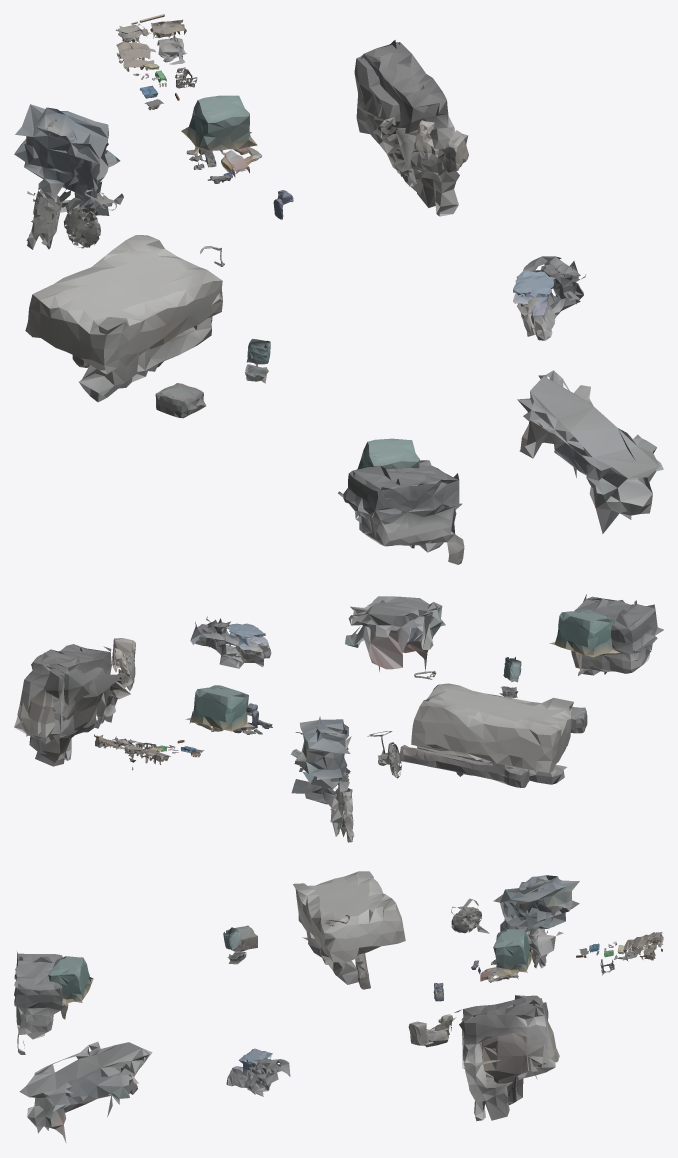
Rendered from models-1-0.glb.
3 views of the same model, one above another, from view 1: azimuth 30°, elevation 25°; view 2: azimuth 150°, elevation 25°; view 3: azimuth 270°, elevation 25° (orthographic). The views are drawn at different scales.
Parts seen in each view (by area): view 1: obj-1-150, obj-1-461, obj-1-369, obj-1-137, obj-1-220, obj-1-168, obj-1-132, obj-1-436, obj-1-516, obj-1-673, obj-1-136, obj-1-213 (+5 smaller); view 2: obj-1-150, obj-1-461, obj-1-369, obj-1-220, obj-1-137, obj-1-136, obj-1-362, obj-1-213, obj-1-238, obj-1-168, obj-1-436, obj-1-509 (+8 smaller); view 3: obj-1-150, obj-1-461, obj-1-220, obj-1-137, obj-1-369, obj-1-136, obj-1-168, obj-1-213, obj-1-436, obj-1-516, obj-1-362, obj-1-132 (+5 smaller).
Part boxes in pixels (x1,y1,x2,y2): obj-1-150: (25,235,222,402); obj-1-461: (517,370,663,533); obj-1-369: (338,460,464,564); obj-1-137: (14,104,123,219); obj-1-220: (356,42,459,216); obj-1-168: (181,95,257,153); obj-1-132: (116,19,186,71); obj-1-436: (517,256,585,336); obj-1-516: (410,120,468,175); obj-1-673: (513,271,555,340); obj-1-136: (354,40,424,180); obj-1-213: (356,438,419,469); obj-1-150: (411,683,573,784); obj-1-461: (345,596,445,671); obj-1-369: (571,594,663,675); obj-1-220: (14,644,111,766); obj-1-137: (294,716,351,836); obj-1-136: (20,648,122,762); obj-1-362: (17,653,117,760); obj-1-213: (549,609,619,657); obj-1-238: (399,745,529,787); obj-1-168: (185,685,254,731); obj-1-436: (190,616,263,668); obj-1-509: (94,669,132,728); obj-1-150: (293,871,405,984); obj-1-461: (19,1041,152,1142); obj-1-220: (454,995,555,1121); obj-1-137: (474,875,579,968); obj-1-369: (14,952,68,1054); obj-1-136: (482,998,558,1104); obj-1-168: (493,929,532,976); obj-1-213: (48,956,93,1004); obj-1-436: (244,1058,290,1096); obj-1-516: (408,1014,456,1047); obj-1-362: (492,1002,559,1087); obj-1-132: (614,932,662,961).
Size of the model in its own units: 12.29 by 5.43 by 18.27.
